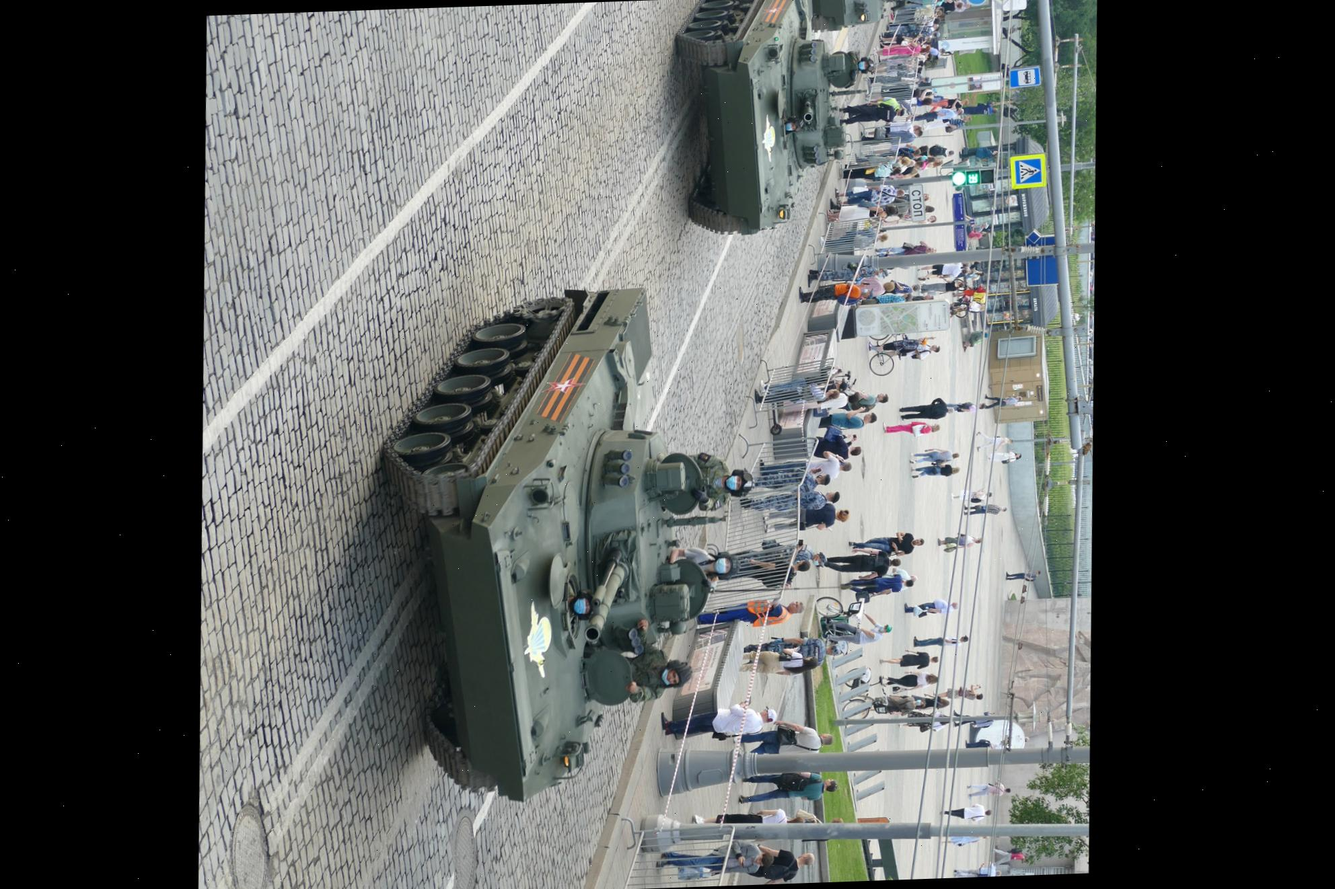armored_car: (773, 0, 918, 34)
tank: (354, 257, 787, 819), (642, 0, 872, 265)
